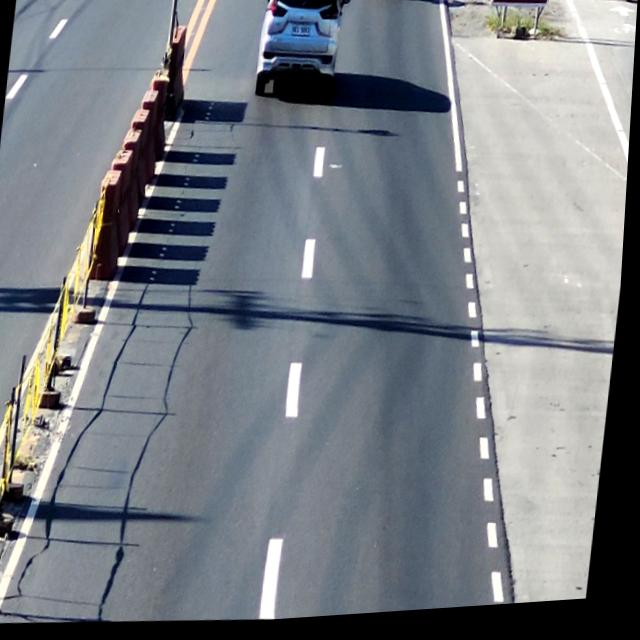Car: (251, 0, 351, 104)
License-Plate: (287, 26, 314, 45)
